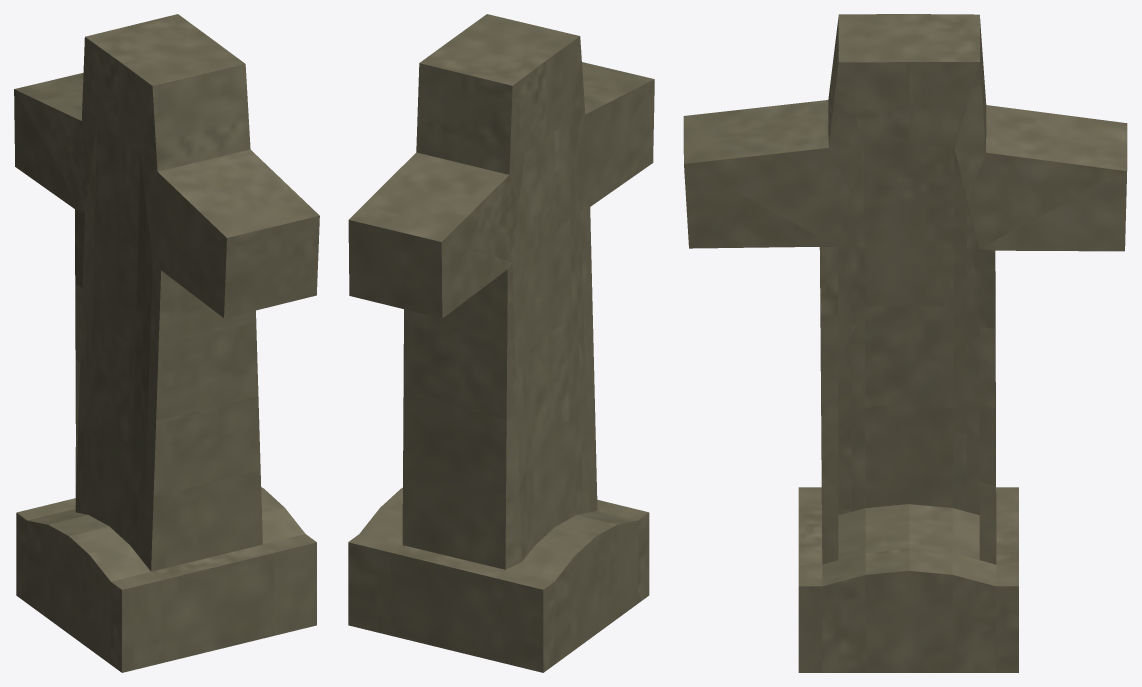
Rendered from Acosta_I_TombstoneCross.fbx.
3 views of the same model, side by side, from view 1: azimuth 30°, elevation 25°; view 2: azimuth 150°, elevation 25°; view 3: azimuth 270°, elevation 25° (orthographic). The views are drawn at different scales.
Visible parts, largest first — view 1: Cube; view 2: Cube; view 3: Cube.
Part boxes in pixels (x1=…): Cube: x1=14, y1=14, x2=319, y2=672; Cube: x1=348, y1=14, x2=654, y2=672; Cube: x1=683, y1=14, x2=1127, y2=672.
Bounding box in the file's own units: 231 × 635 × 437.
